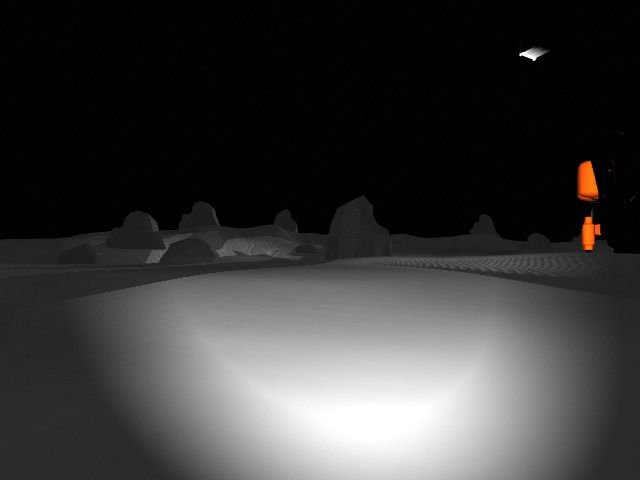cubesat: (515, 22, 561, 69)
